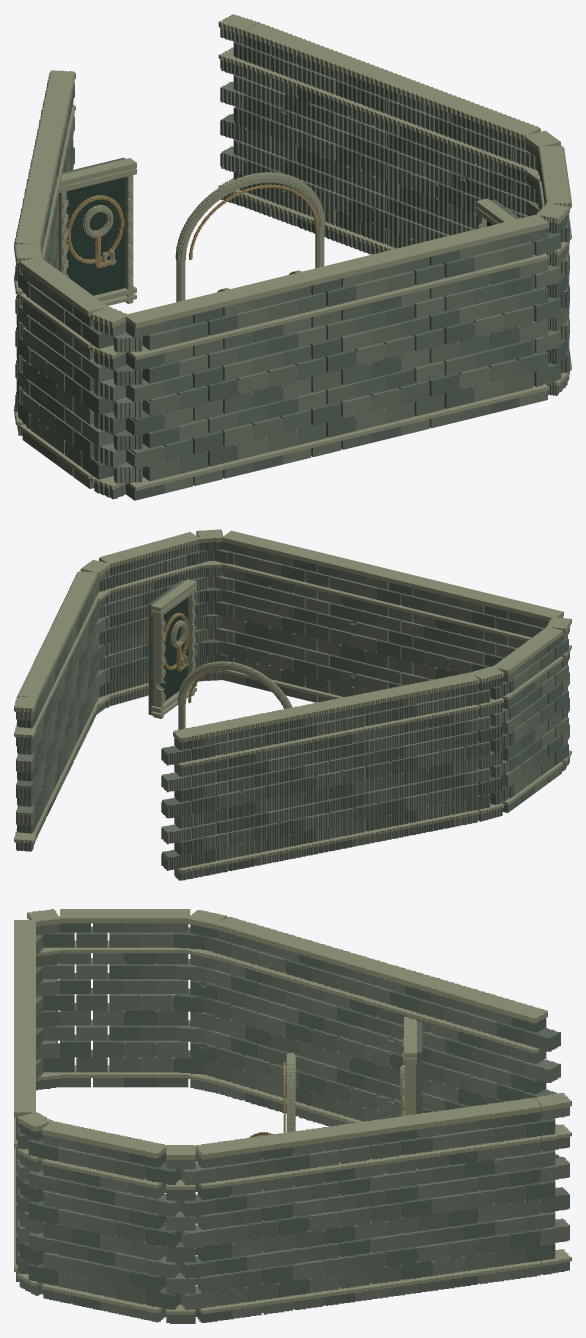
3 views of the same model, one above another, from view 1: azimuth 30°, elevation 25°; view 2: azimuth 150°, elevation 25°; view 3: azimuth 270°, elevation 25° (orthographic). The views are drawn at different scales.
Parts seen in each view (by area): view 1: CarvedMasonry_0_1_00, CarvedMasonry_-1_1_00, CarvedMasonry_-2_1_00, CarvedMasonry_1_-1_00, CarvedMasonry_0_-2_00, CarvedMasonry_1_0_00, CarvedMasonry_-2_0_00, Heraldry_13_01, CarvedMasonry_1_1_00, FittedReliquaryApse_00, CarvedMasonry_-1_-1_00, CarvedMasonry_0_-1_00 (+3 smaller); view 2: CarvedMasonry_-2_0_00, CarvedMasonry_0_1_00, CarvedMasonry_-1_-1_00, CarvedMasonry_-1_1_00, CarvedMasonry_1_0_00, CarvedMasonry_-1_-2_00, CarvedMasonry_-2_1_00, CarvedMasonry_-2_-1_00, CarvedMasonry_1_1_00, CarvedMasonry_1_-1_00, Heraldry_13_00, CarvedMasonry_0_-2_00 (+1 smaller); view 3: CarvedMasonry_1_0_00, CarvedMasonry_-2_0_00, CarvedMasonry_1_-1_00, CarvedMasonry_-1_-1_00, CarvedMasonry_1_1_00, CarvedMasonry_-2_1_00, CarvedMasonry_0_-2_00, CarvedMasonry_-2_-1_00, CarvedMasonry_-1_-2_00, CarvedMasonry_0_-1_00, CarvedMasonry_0_1_00, Heraldry_13_01 (+2 smaller).
Part boxes in pixels (x1,y1,x2,y2): CarvedMasonry_0_1_00: (361,214,548,442); CarvedMasonry_-1_1_00: (206,257,386,478); CarvedMasonry_-2_1_00: (54,282,223,500); CarvedMasonry_1_-1_00: (295,42,464,254); CarvedMasonry_0_-2_00: (218,14,310,226); CarvedMasonry_1_0_00: (437,99,567,235); CarvedMasonry_-2_0_00: (14,199,73,463); Heraldry_13_01: (58,157,136,305); CarvedMasonry_1_1_00: (531,174,571,395); FittedReliquaryApse_00: (175,172,324,302); CarvedMasonry_-1_-1_00: (29,99,69,270); CarvedMasonry_0_-1_00: (284,61,312,215); CarvedMasonry_-2_0_00: (397,646,541,836); CarvedMasonry_0_1_00: (222,530,372,702); CarvedMasonry_-1_-1_00: (222,697,365,871); CarvedMasonry_-1_1_00: (353,565,497,695); CarvedMasonry_1_0_00: (62,545,154,749); CarvedMasonry_-1_-2_00: (161,721,242,880); CarvedMasonry_-2_1_00: (483,594,571,792); CarvedMasonry_-2_-1_00: (346,687,416,846); CarvedMasonry_1_1_00: (141,529,235,684); CarvedMasonry_1_-1_00: (28,605,81,816); Heraldry_13_00: (148,579,196,718); CarvedMasonry_0_-2_00: (14,673,48,851); CarvedMasonry_1_0_00: (100,1132,309,1323); CarvedMasonry_-2_0_00: (109,909,307,1116); CarvedMasonry_1_-1_00: (287,1106,480,1309); CarvedMasonry_-1_-1_00: (337,956,494,1123); CarvedMasonry_1_1_00: (16,1111,116,1309); CarvedMasonry_-2_1_00: (14,909,123,1090); CarvedMasonry_0_-2_00: (473,1093,571,1284); CarvedMasonry_-2_-1_00: (285,940,362,1126); CarvedMasonry_-1_-2_00: (471,995,560,1157); CarvedMasonry_0_-1_00: (462,1128,494,1271); CarvedMasonry_0_1_00: (14,1030,35,1281); Heraldry_13_01: (400,1016,422,1116).
Size of the model in its own units: 19.08 by 6.18 by 18.24.
